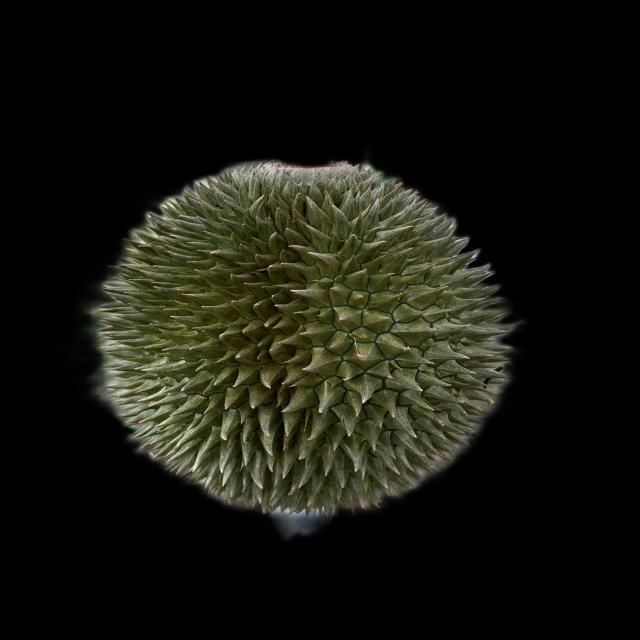immature: (82, 162, 514, 522)
